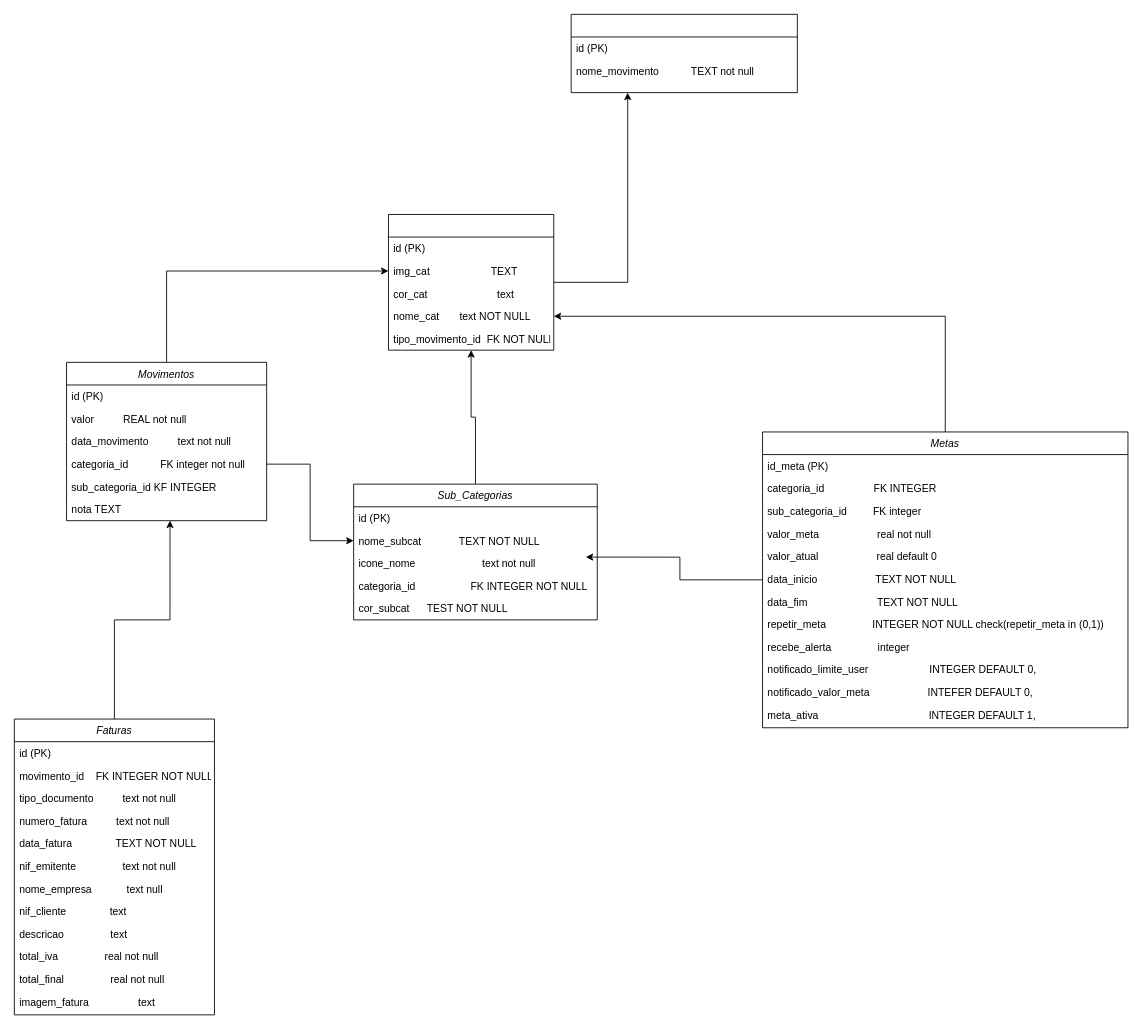
This 1142x1029 diagram has some shape labels left out. The shapes that lost their labels are listed below. From the top down, each one's box as (x1, y1, x2, y2) in pixels, then its label:
(570, 13, 797, 93): Tipo_Movimento
(388, 214, 554, 350): Categorias
